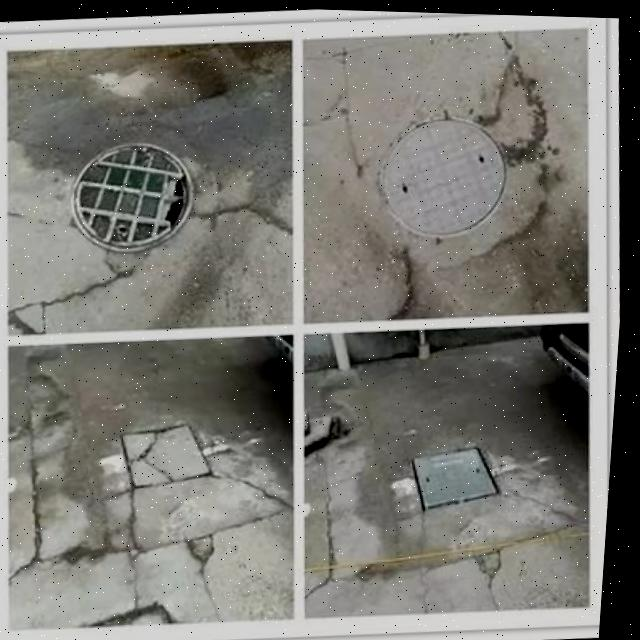manhole: (57, 131, 210, 258)
